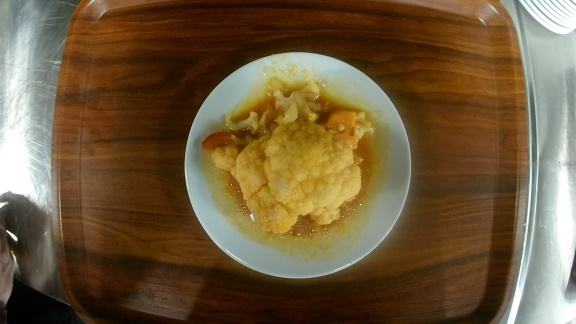karnibahar: (182, 50, 411, 281)
